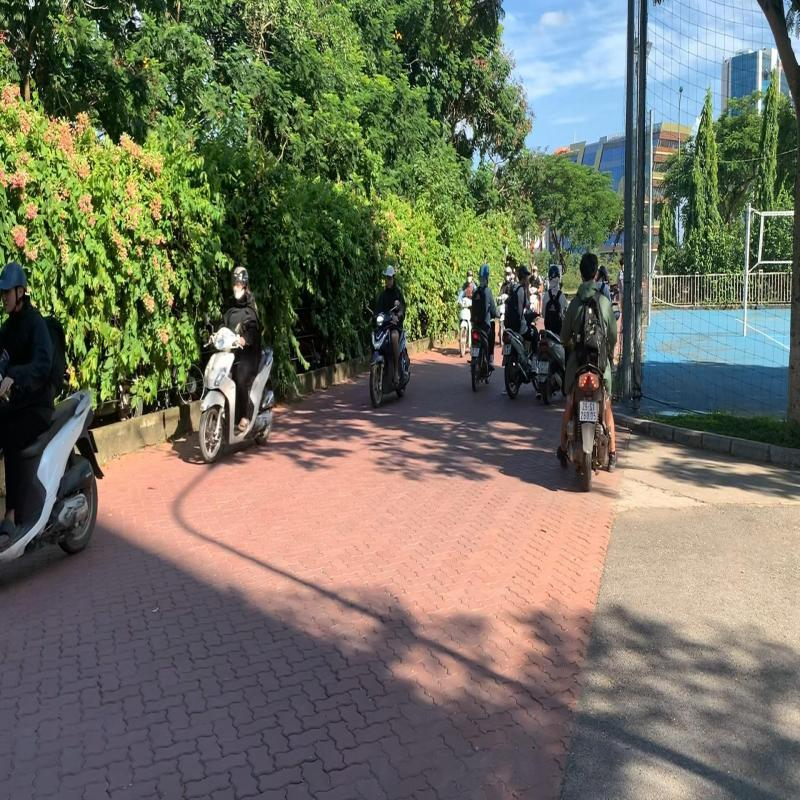nohelmet: (579, 250, 599, 284)
